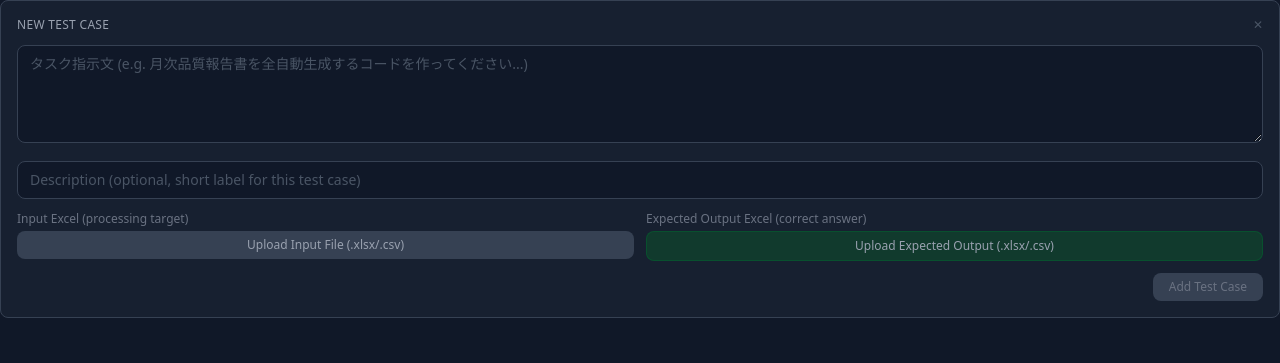
Scenario: CreateTestCaseForm › shows error message when createTestCase fails
Type "My task" into the text box with placeholder "タスク指示文 (e.g. 月次品質報告書を全自動生成するコードを作ってください...)".
click(640, 94); type("My task")  # box [17,45,1263,143]
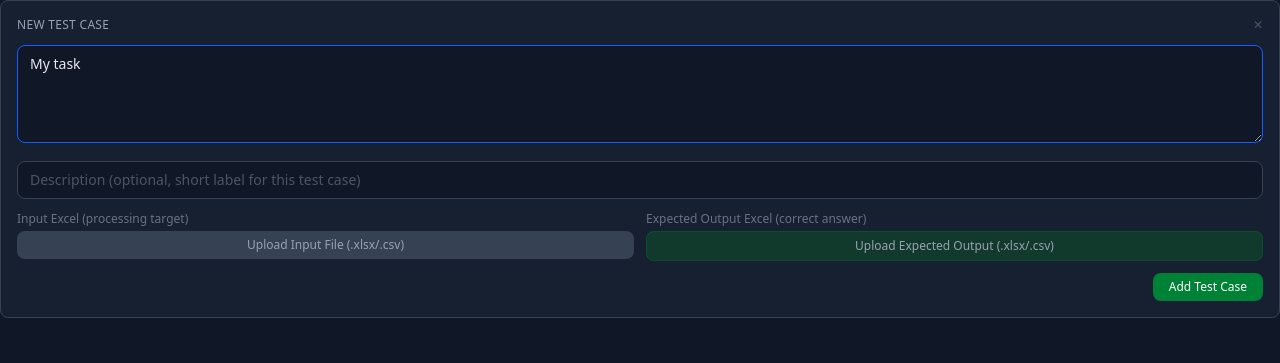
Submit the form named "Add Test Case"
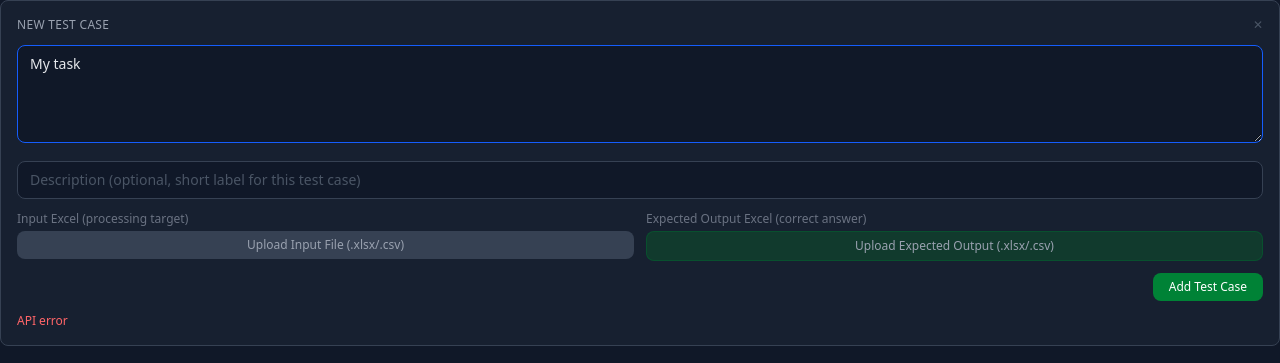
Check: the text "API error" is shown, box [17,312,68,329]
